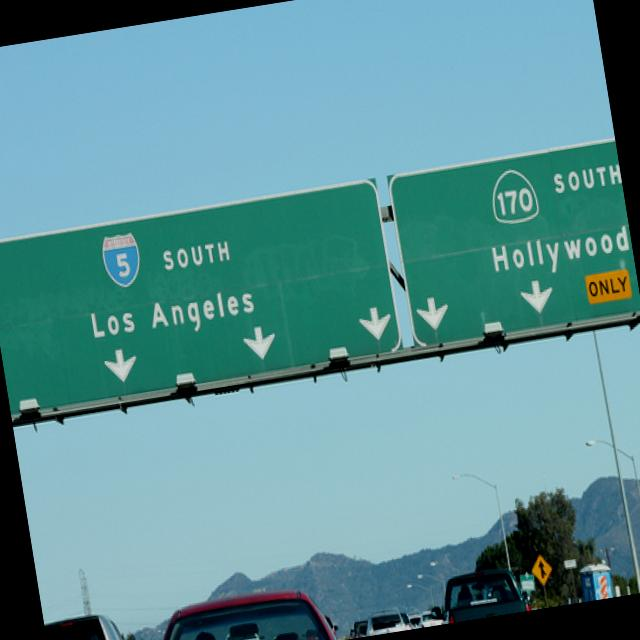Vehicle: (141, 584, 344, 640), (424, 566, 530, 626), (44, 609, 144, 640), (360, 606, 410, 636), (414, 611, 446, 629), (349, 620, 369, 639), (400, 609, 416, 631)
